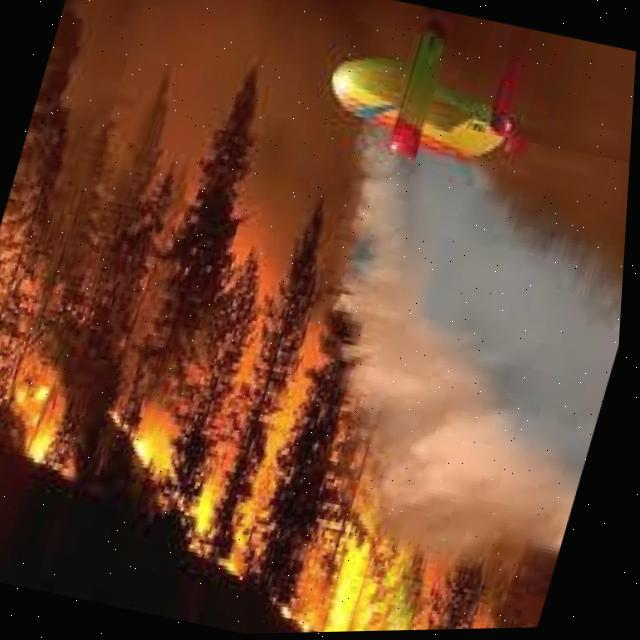fire: (313, 527, 462, 634)
smoke: (281, 154, 630, 546), (49, 0, 273, 167)
